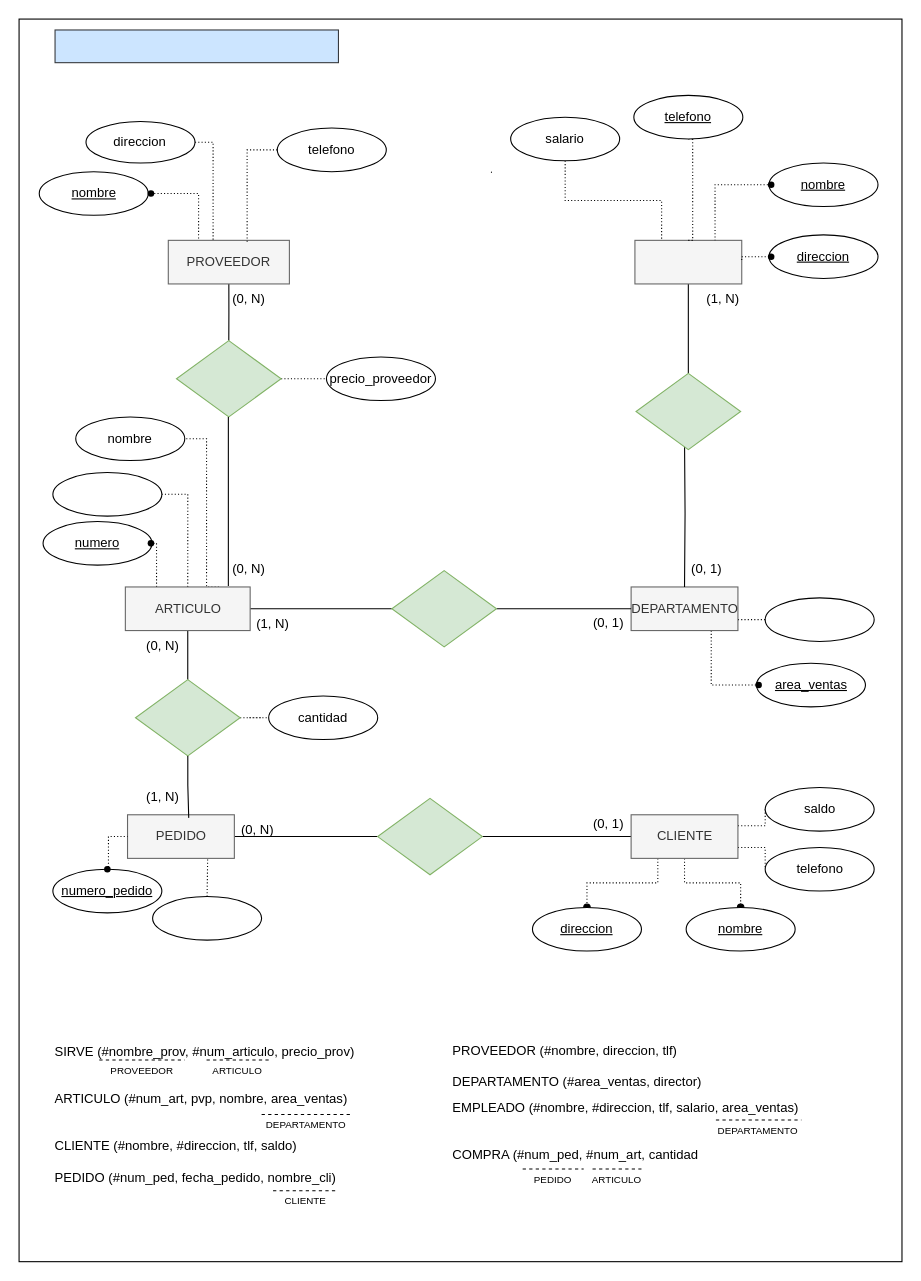
Image size: 921x1281. Some labels were removed from this diagram. The shapes that lost their labels are listed below. From the top down, each one's centre as x and y in pixels, then its label:
At point 196,46: "EJER. 13 - SUPERMERCADO MANDARÍN".
At point 688,261: "EMPLEADO".
At point 228,378: "SIRVE N:N".
At point 688,411: "TRABAJA N:1".
At point 107,493: "pvp".
At point 443,608: "VENDE N:1".
At point 819,619: "director".
At point 187,717: "COMPRA N:N".
At point 429,836: "REALIZA N:1".
At point 207,917: "fecha_pedido".
